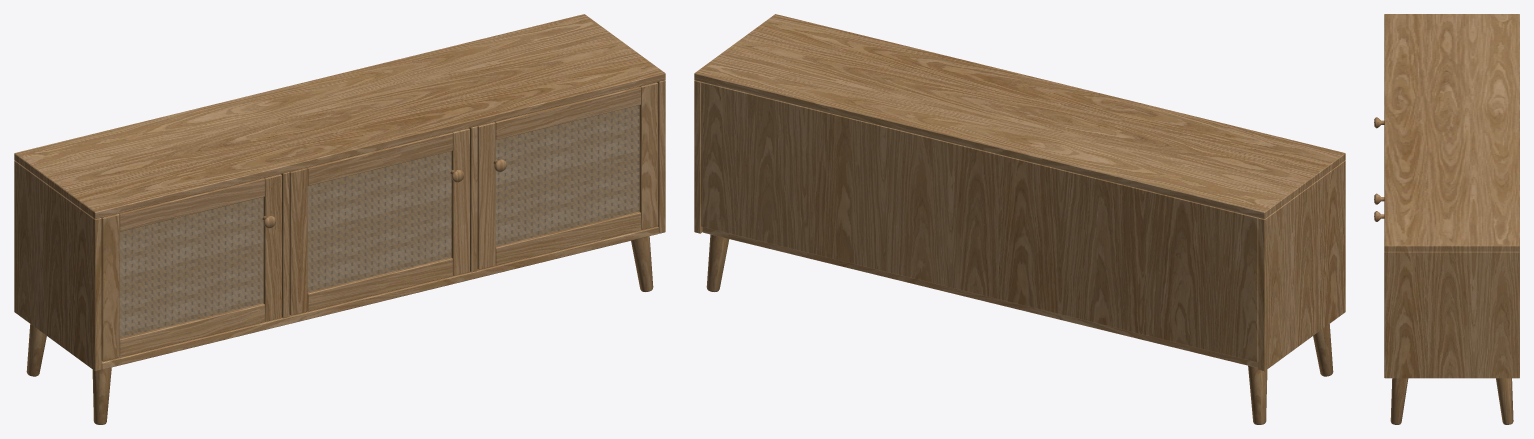
File: mueble_tv_rejilla_150.glb
The picture shows the model from 3 angles, left to right: view 1: azimuth 30°, elevation 25°; view 2: azimuth 150°, elevation 25°; view 3: azimuth 270°, elevation 25°; orthographic projection. The views are drawn at different scales.
Parts seen in each view (by area): view 1: mueble_tv_rejilla_150; view 2: mueble_tv_rejilla_150; view 3: mueble_tv_rejilla_150.
Part boxes in pixels (x1=…): mueble_tv_rejilla_150: x1=14, y1=14, x2=665, y2=424; mueble_tv_rejilla_150: x1=694, y1=14, x2=1345, y2=424; mueble_tv_rejilla_150: x1=1374, y1=14, x2=1519, y2=424.
Size of the model in its own units: 1.5 by 0.551 by 0.3979.
Materials: 2 (2 with a texture image).
